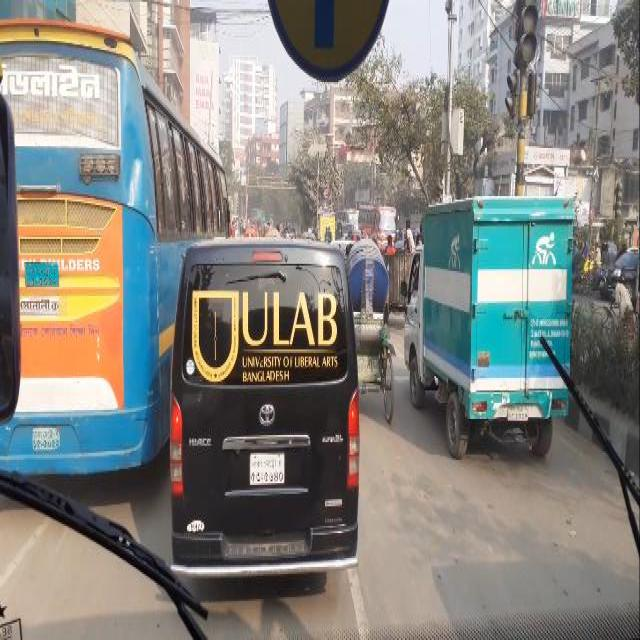11: (402, 195, 572, 463)
13: (344, 233, 396, 425), (570, 236, 592, 297)
15: (598, 245, 638, 302)
19: (168, 239, 364, 579)
Truck: (0, 12, 171, 498), (358, 203, 398, 248), (336, 207, 358, 226)
